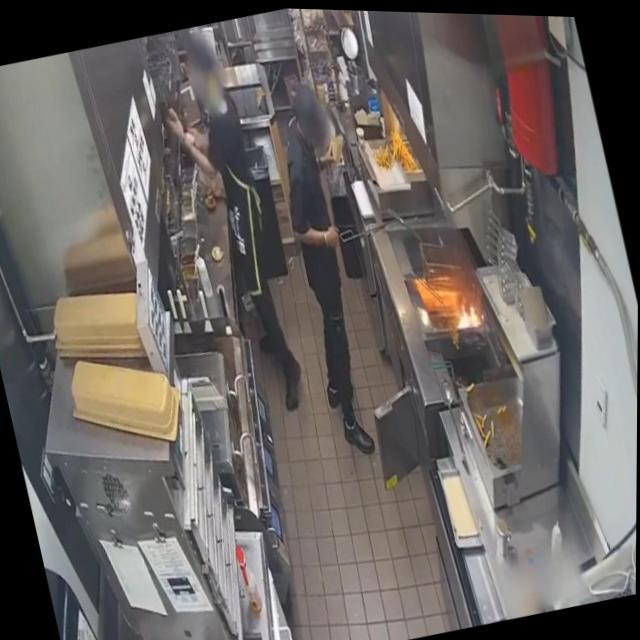fire: (445, 291, 483, 330)
